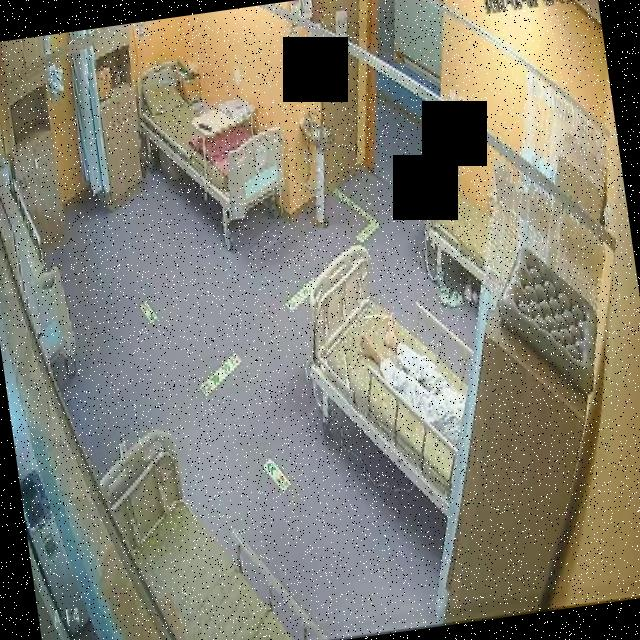bed: (292, 234, 486, 528), (93, 413, 328, 640), (127, 46, 294, 234), (417, 152, 498, 290)
lie: (353, 296, 471, 457)
patient: (353, 300, 471, 456)
